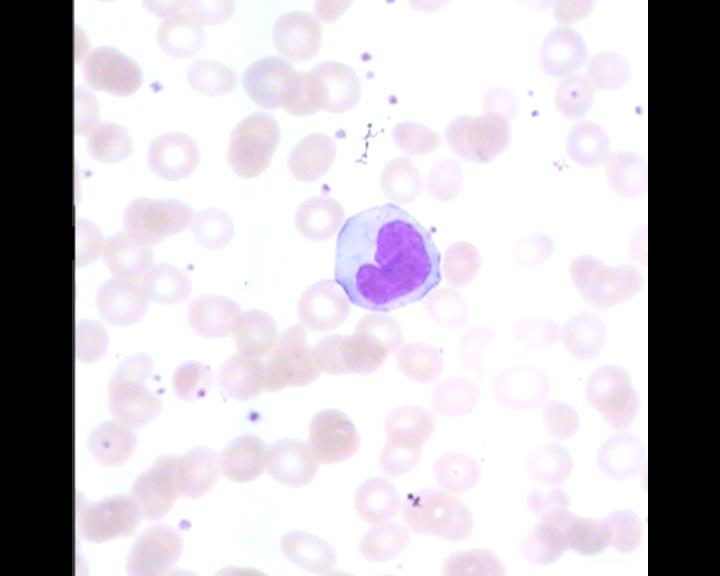mono: (333, 203, 441, 312)
